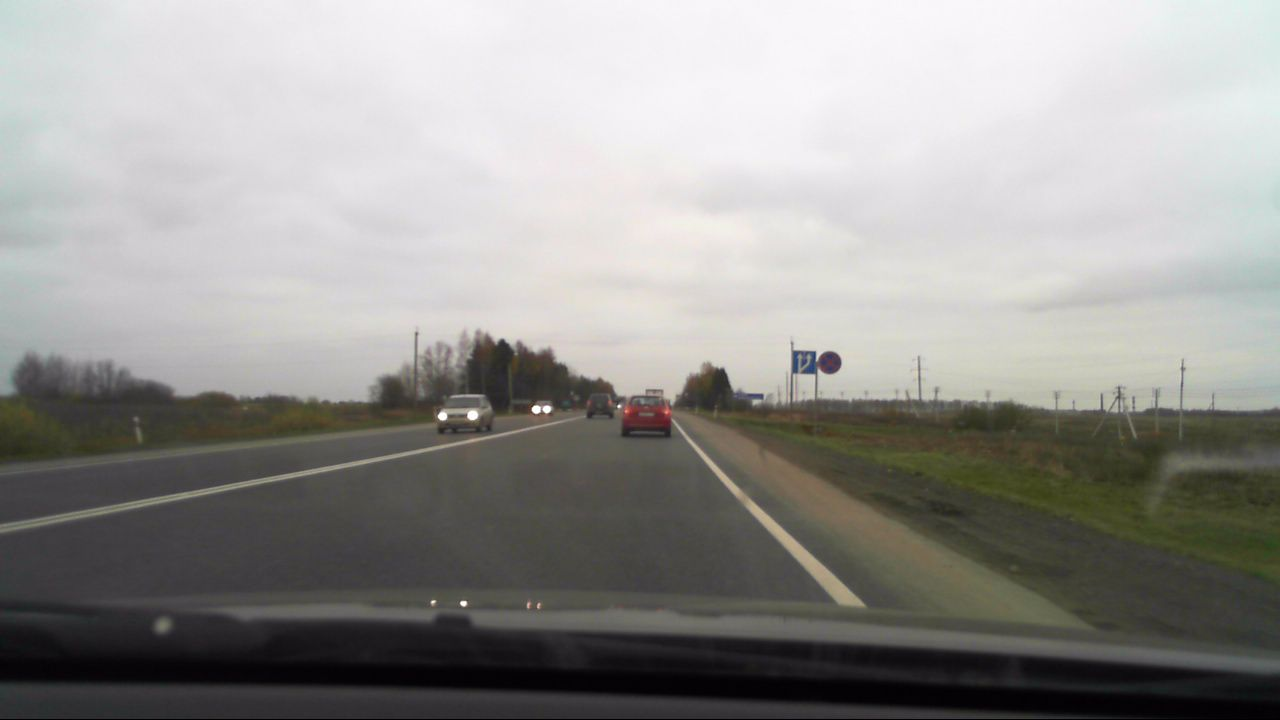No Parking: (818, 349, 842, 374)
